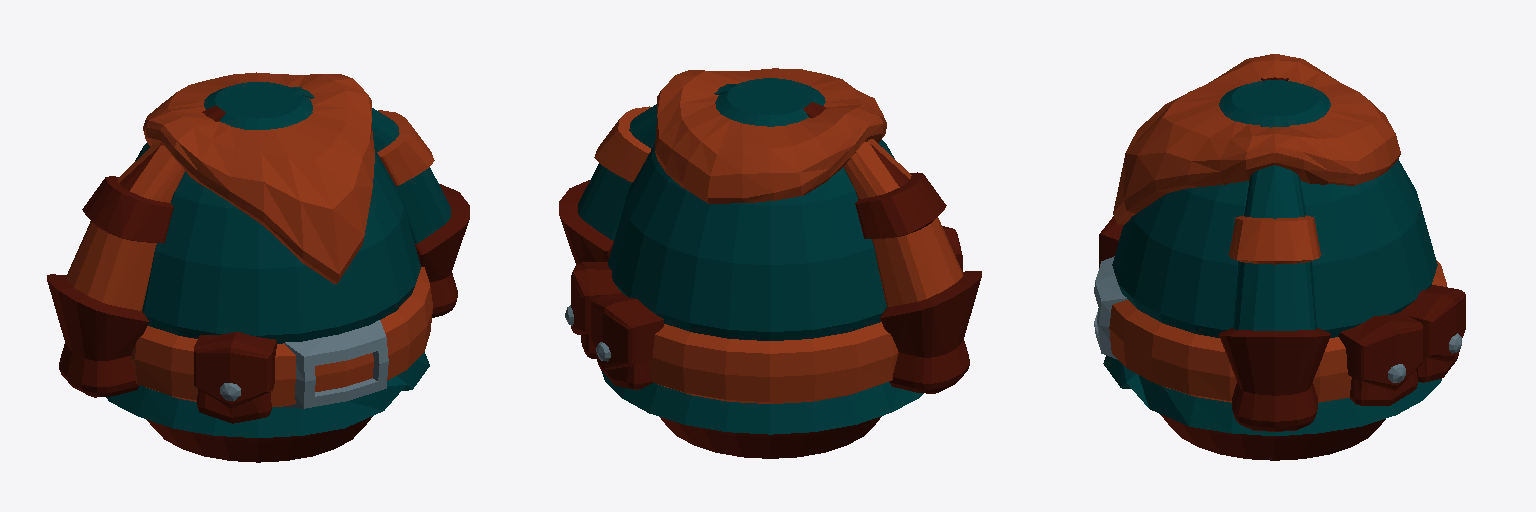
The model's file is character_rogue.obj.
3 views of the same model, side by side, from view 1: azimuth 30°, elevation 25°; view 2: azimuth 150°, elevation 25°; view 3: azimuth 270°, elevation 25° (orthographic).
Visible parts, largest first — view 1: character_rogueBody_Cube.007, character_rogueArmRight_Cube.012, character_rogueArmLeft_Cube.013; view 2: character_rogueBody_Cube.007, character_rogueArmRight_Cube.012, character_rogueArmLeft_Cube.013; view 3: character_rogueBody_Cube.007, character_rogueArmLeft_Cube.013.
Part boxes in pixels (left/top/right/bottom): character_rogueBody_Cube.007: left=106, top=72, right=432, bottom=462; character_rogueArmRight_Cube.012: left=47, top=106, right=225, bottom=397; character_rogueArmLeft_Cube.013: left=292, top=87, right=469, bottom=317; character_rogueBody_Cube.007: left=565, top=68, right=962, bottom=458; character_rogueArmRight_Cube.012: left=803, top=102, right=981, bottom=393; character_rogueArmLeft_Cube.013: left=559, top=84, right=736, bottom=264; character_rogueBody_Cube.007: left=1094, top=54, right=1465, bottom=460; character_rogueArmLeft_Cube.013: left=1219, top=116, right=1330, bottom=431.
Size of the model in its own units: 0.9636 by 0.7287 by 0.7734.